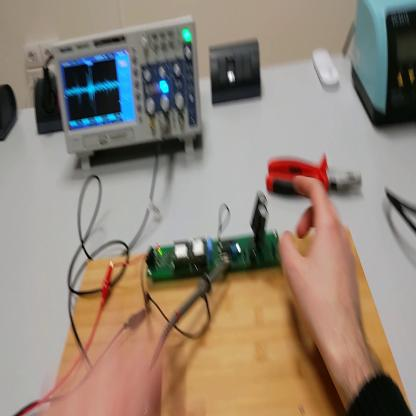hand: (279, 173, 366, 364), (46, 329, 176, 414)
high voltage board: (112, 192, 277, 283)
oscilloscope: (52, 17, 205, 171)
oscilloscope probe tip: (169, 262, 232, 334)
pliers: (268, 151, 366, 202)
socket: (35, 75, 64, 141), (2, 83, 20, 142)
welder station: (351, 3, 416, 133)
working area: (53, 229, 414, 416)
